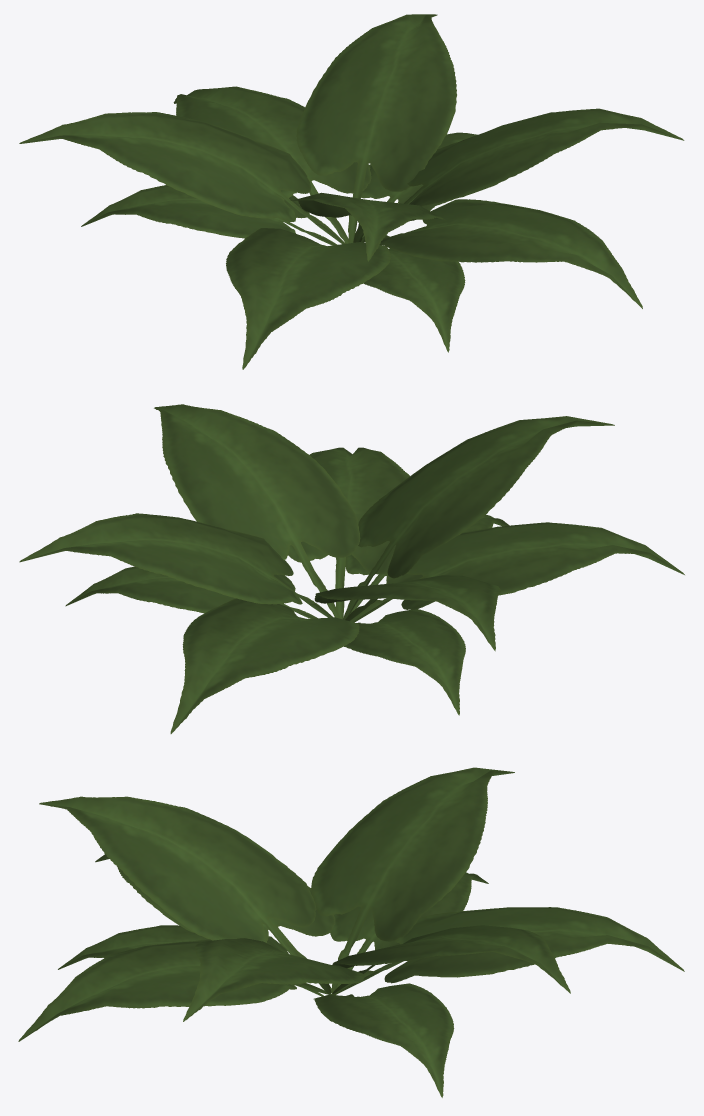
File: Flat Leaves.fbx
3 views of the same model, one above another, from view 1: azimuth 30°, elevation 25°; view 2: azimuth 150°, elevation 25°; view 3: azimuth 270°, elevation 25° (orthographic).
Visible parts, largest first — view 1: SM_FlatLeaves; view 2: SM_FlatLeaves; view 3: SM_FlatLeaves.
Boxes of the visible parts, x1=… form: SM_FlatLeaves: x1=19, y1=14, x2=684, y2=369; SM_FlatLeaves: x1=19, y1=404, x2=684, y2=733; SM_FlatLeaves: x1=18, y1=767, x2=684, y2=1097.
Bounding box in the file's own units: 2.49 × 0.691 × 2.82.
